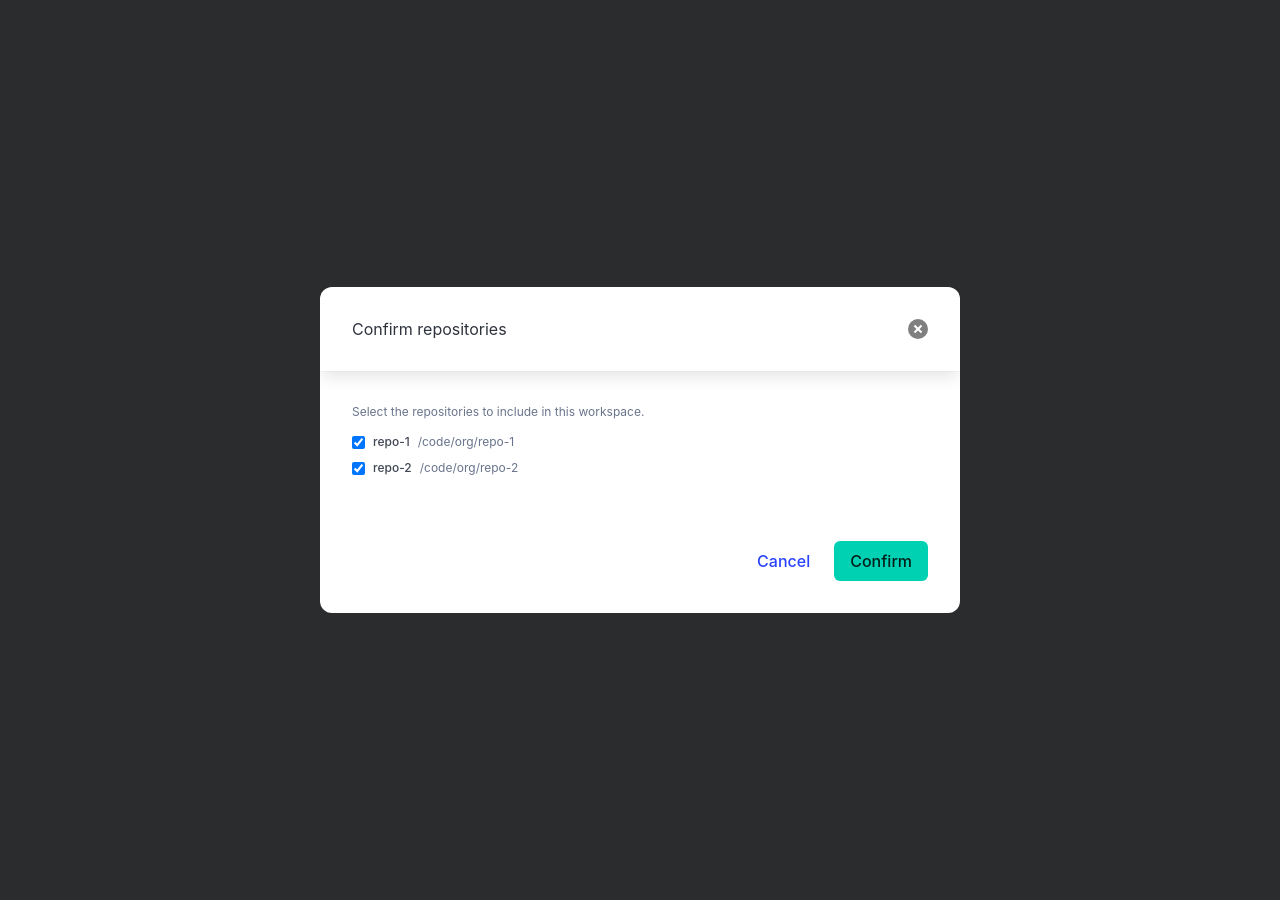
Test: WorkspaceConfirmModal — repo list (22.3.3) › Confirm button is disabled when all repos are unchecked
What coordinates should you click on to do the following:
click the checkbox labelled "repo-1 /code/org/repo-1"
I would click on:
 (358, 442)
Its box is [352,436,365,448].
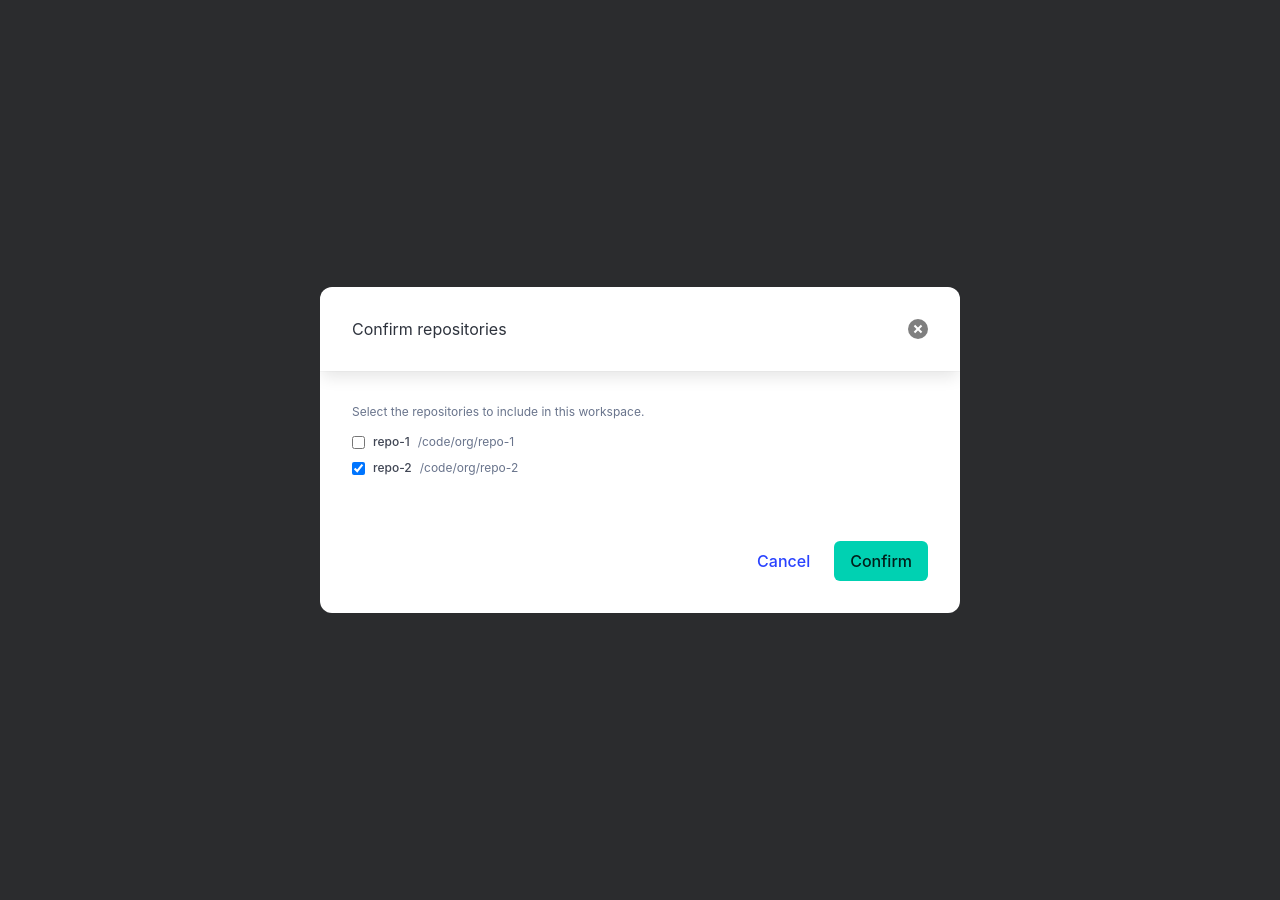
What coordinates should you click on to do the following:
click the checkbox labelled "repo-2 /code/org/repo-2"
I would click on:
 (358, 468)
Its box is [352,462,365,474].
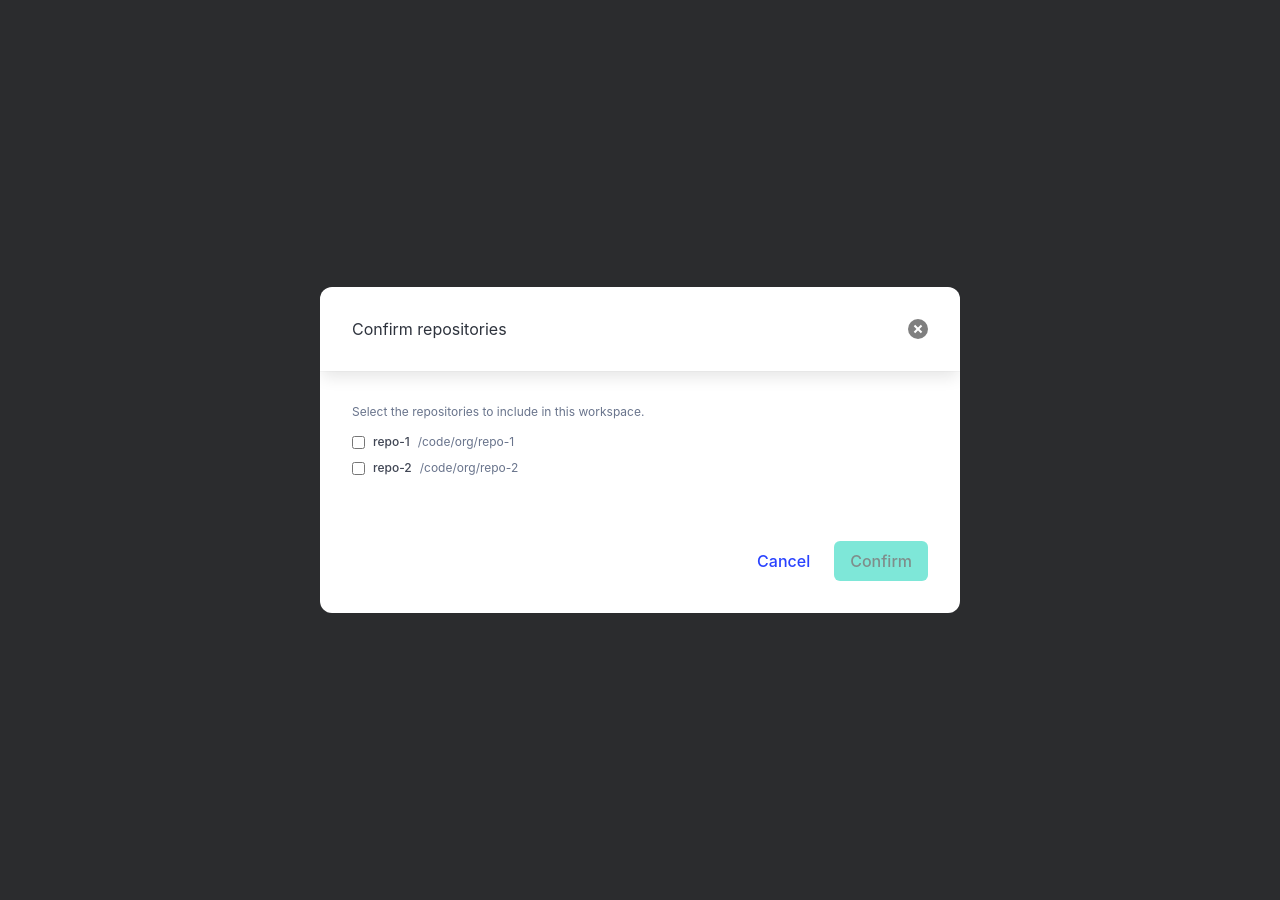
Expected: the button "Confirm" is disabled, [834,541,928,581]
